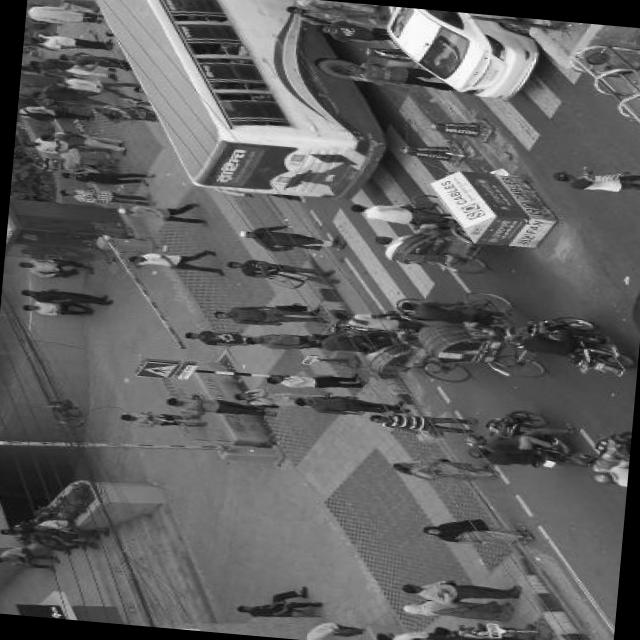bus: (54, 0, 402, 204)
car: (368, 5, 541, 104)
motorcycle: (337, 185, 500, 280), (394, 283, 549, 381), (498, 307, 632, 382), (461, 403, 582, 478)
